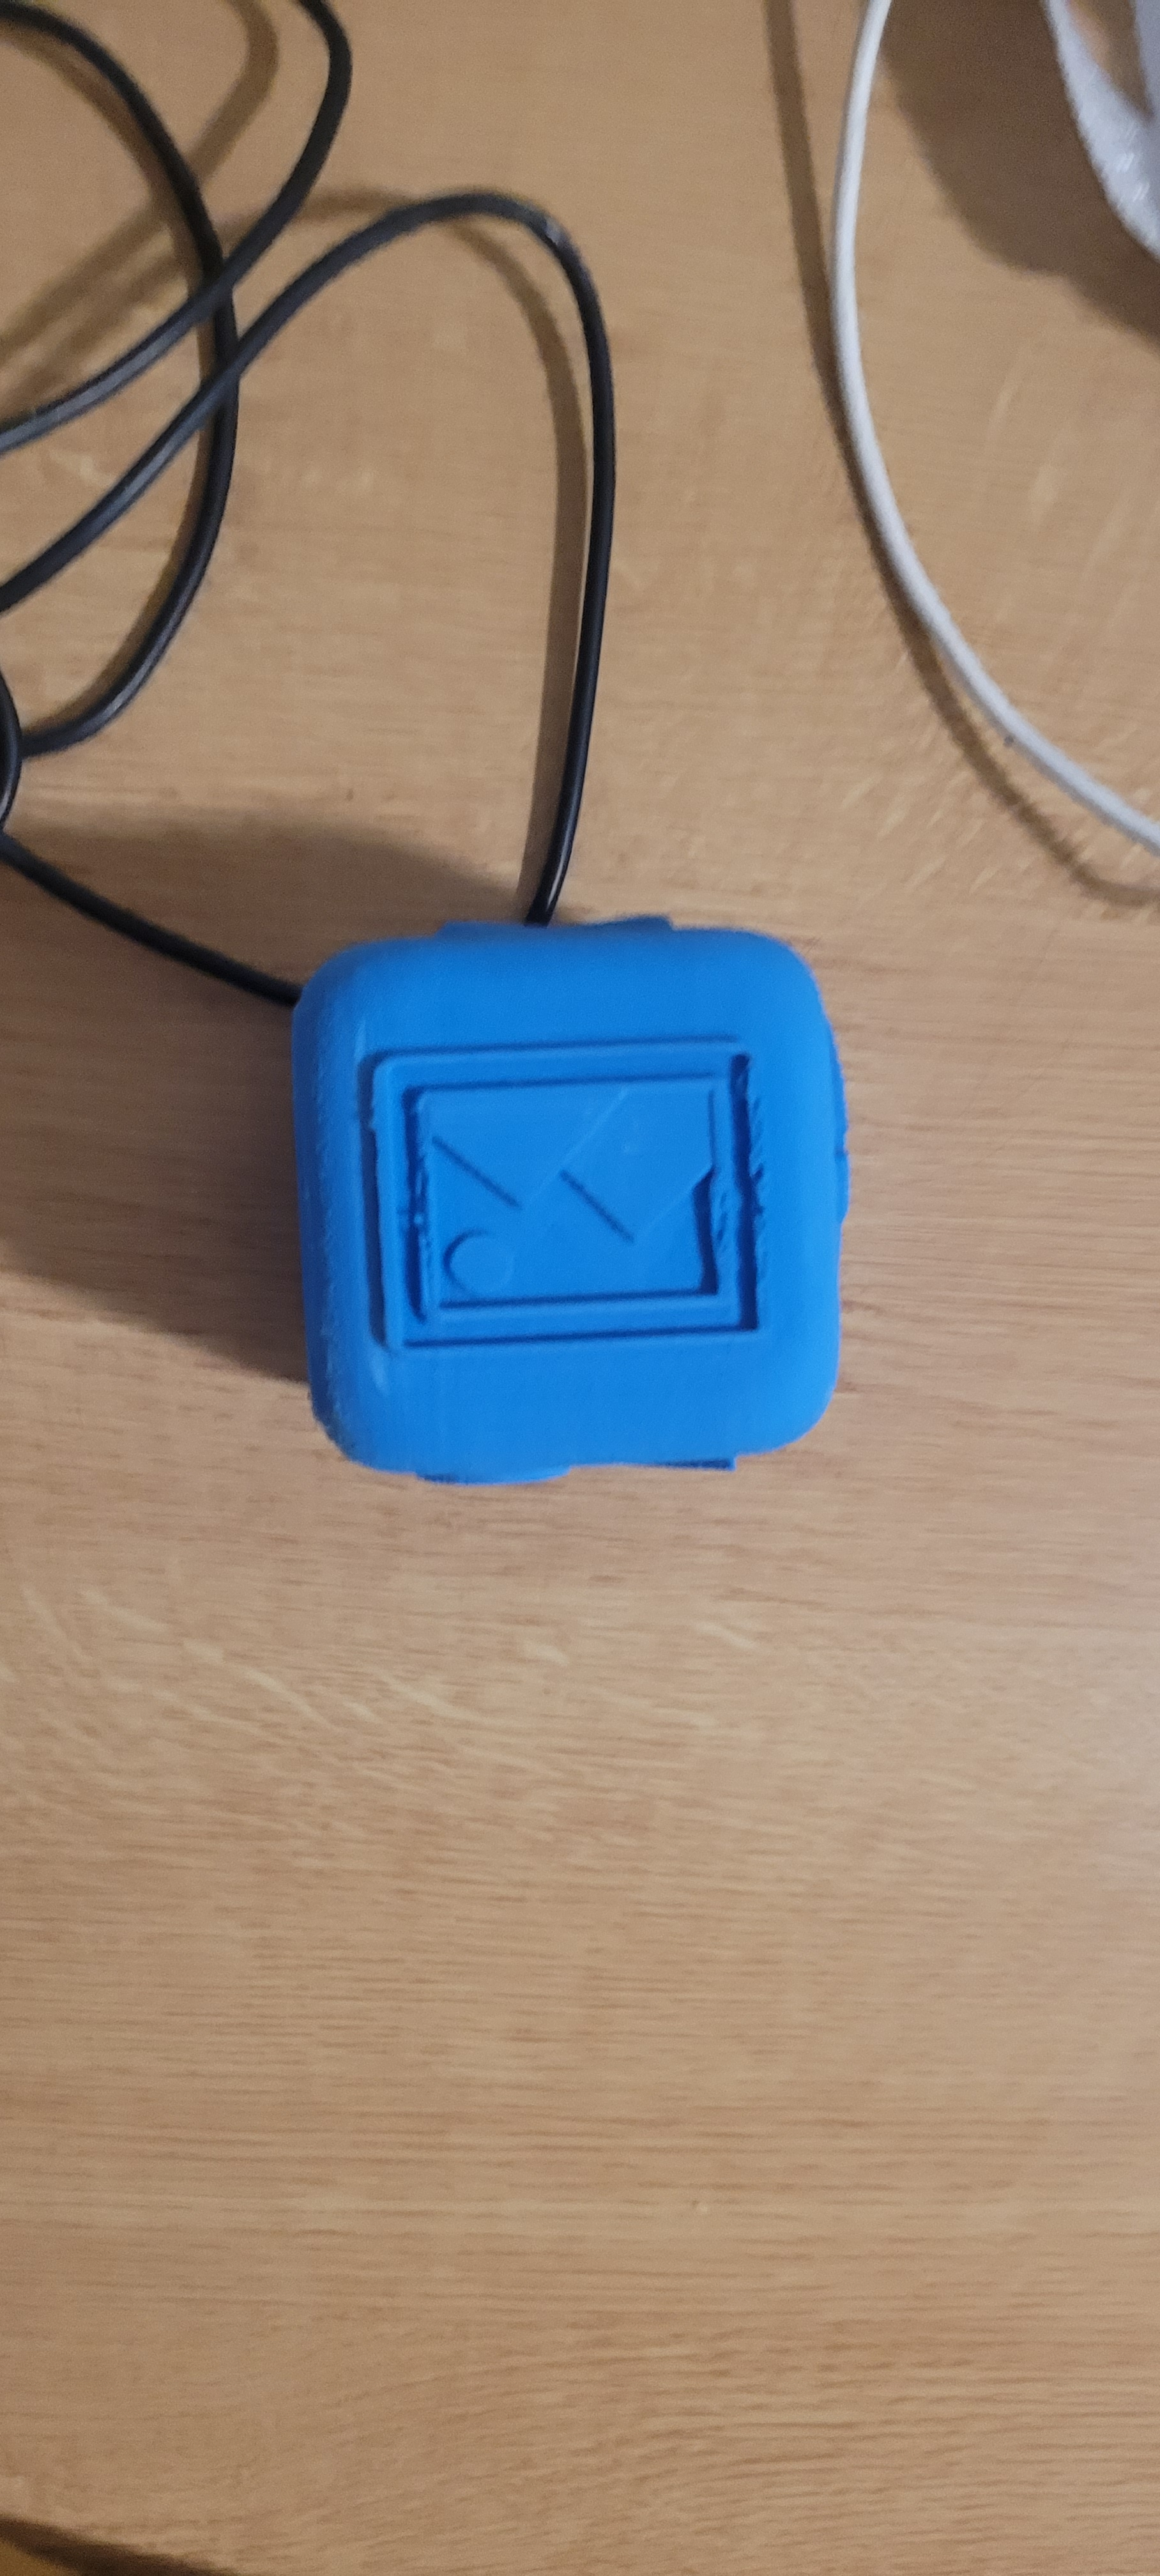Story: (317, 1014, 838, 1421)
